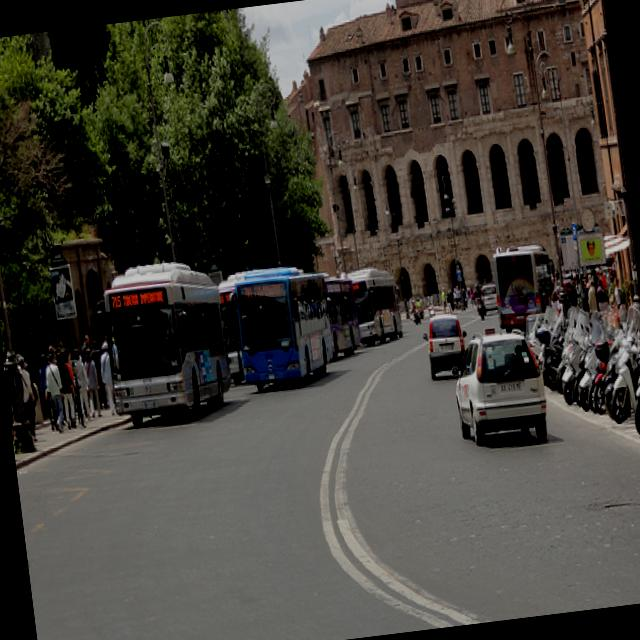Vehicle: (87, 256, 236, 432), (229, 271, 340, 395), (448, 326, 551, 450), (491, 242, 562, 332), (532, 304, 588, 394), (599, 302, 640, 415), (553, 310, 600, 406), (352, 268, 404, 343), (595, 328, 633, 419), (420, 314, 472, 379), (326, 277, 364, 358), (570, 341, 605, 416), (620, 307, 640, 433), (586, 338, 616, 416), (480, 282, 499, 314), (474, 296, 486, 320)
